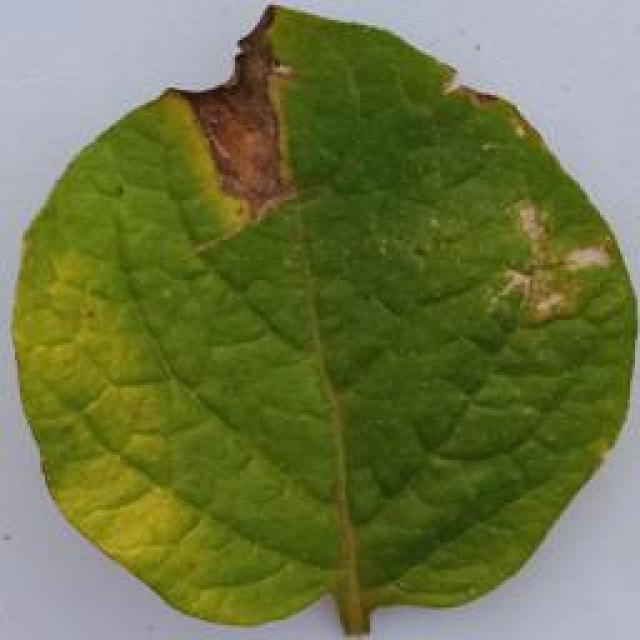Potato_Late_Blight: (12, 7, 640, 615)
